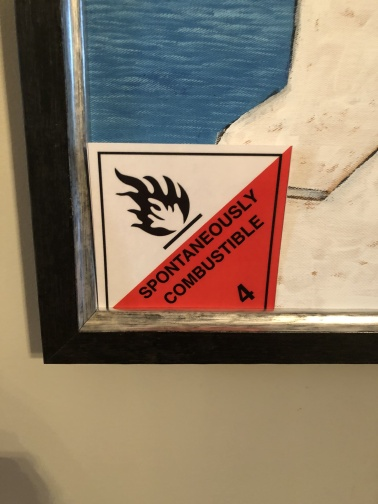SpontaneouslyCombustible: (86, 141, 294, 325)
